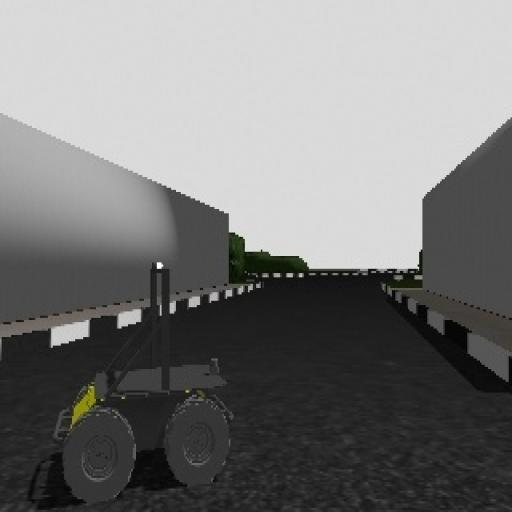huskya200: (48, 252, 250, 494)
